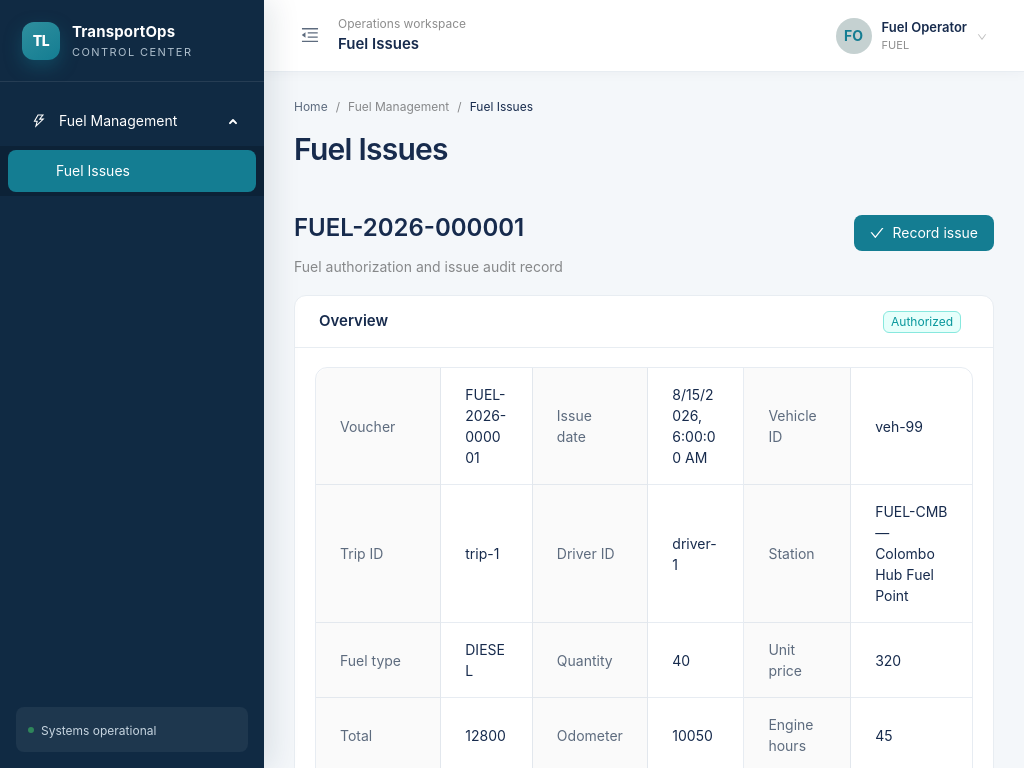
Test: Fuel Issue MVP pages › invalidates vehicle queries and shows reading note on successful fuel issue
Click the button "Record issue": (924, 232) [854,214,994,250]
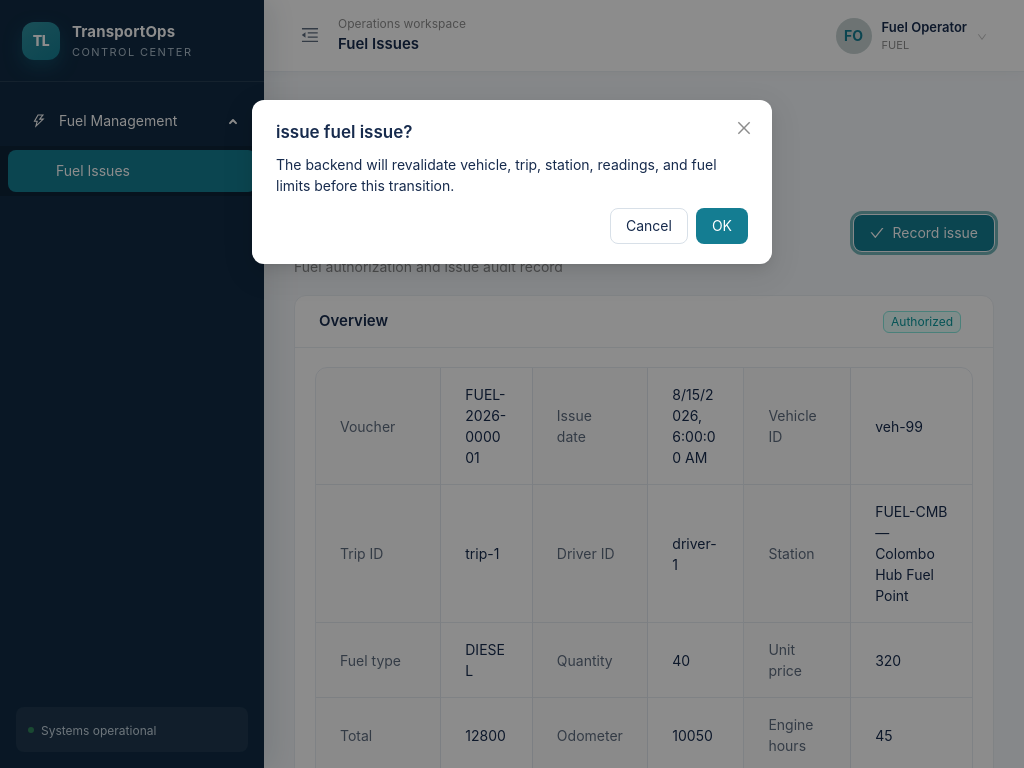
Click the button "OK": (722, 226) [696,208,748,244]
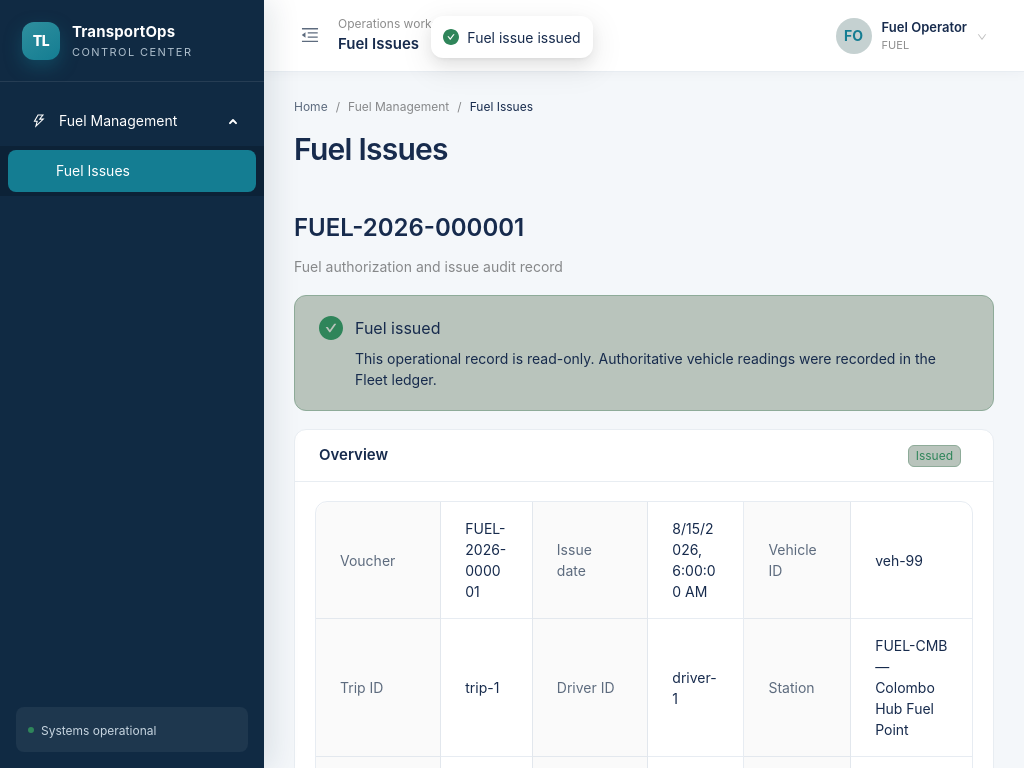
Expected: the text "Authoritative vehicle readings were recorded in the Fleet ledger" is shown, [355,350,936,388]
